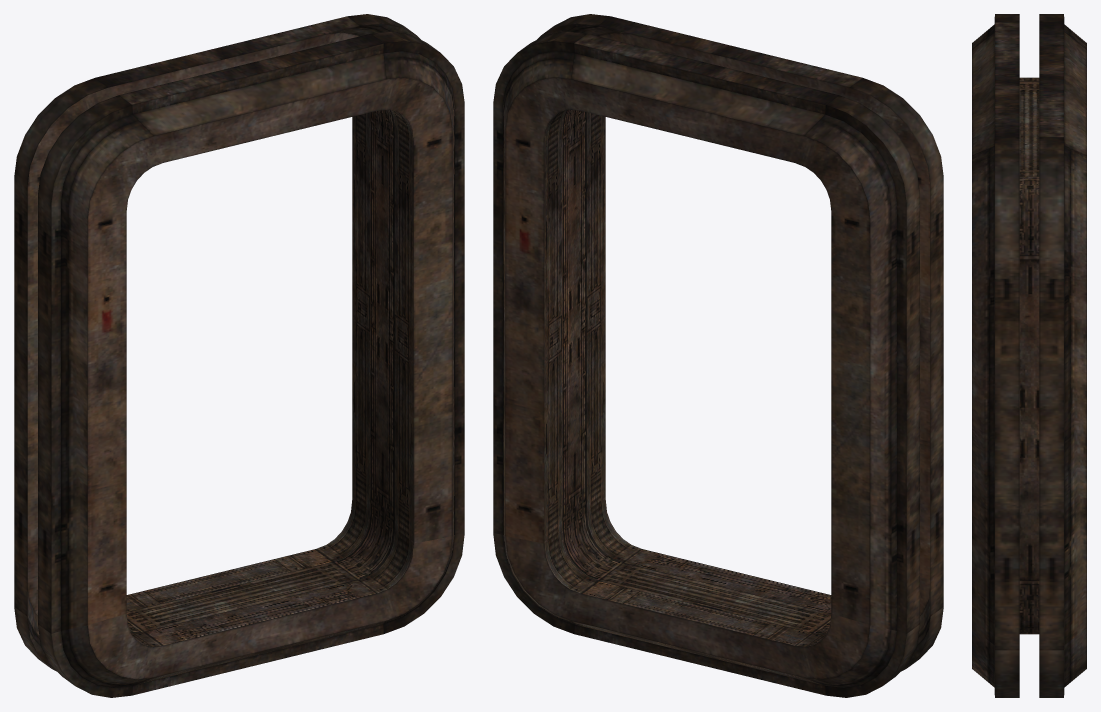
The model's file is theta_tunnels_doorframe_rusty.dae.
The picture shows the model from 3 angles, left to right: view 1: azimuth 30°, elevation 25°; view 2: azimuth 150°, elevation 25°; view 3: azimuth 270°, elevation 25°; orthographic projection. The views are drawn at different scales.
Visible parts, largest first — view 1: polySurface125; view 2: polySurface125; view 3: polySurface125.
Boxes of the visible parts, x1,y1,x2,y2 form: polySurface125: (14,14,464,697); polySurface125: (493,14,943,697); polySurface125: (972,14,1086,697).
Size of the model in its own units: 2.53 by 3.46 by 0.6509.
